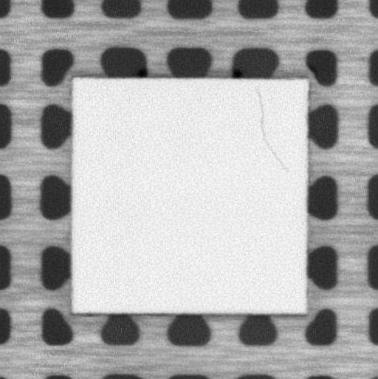DIE_CRACK: (255, 87, 290, 174)
